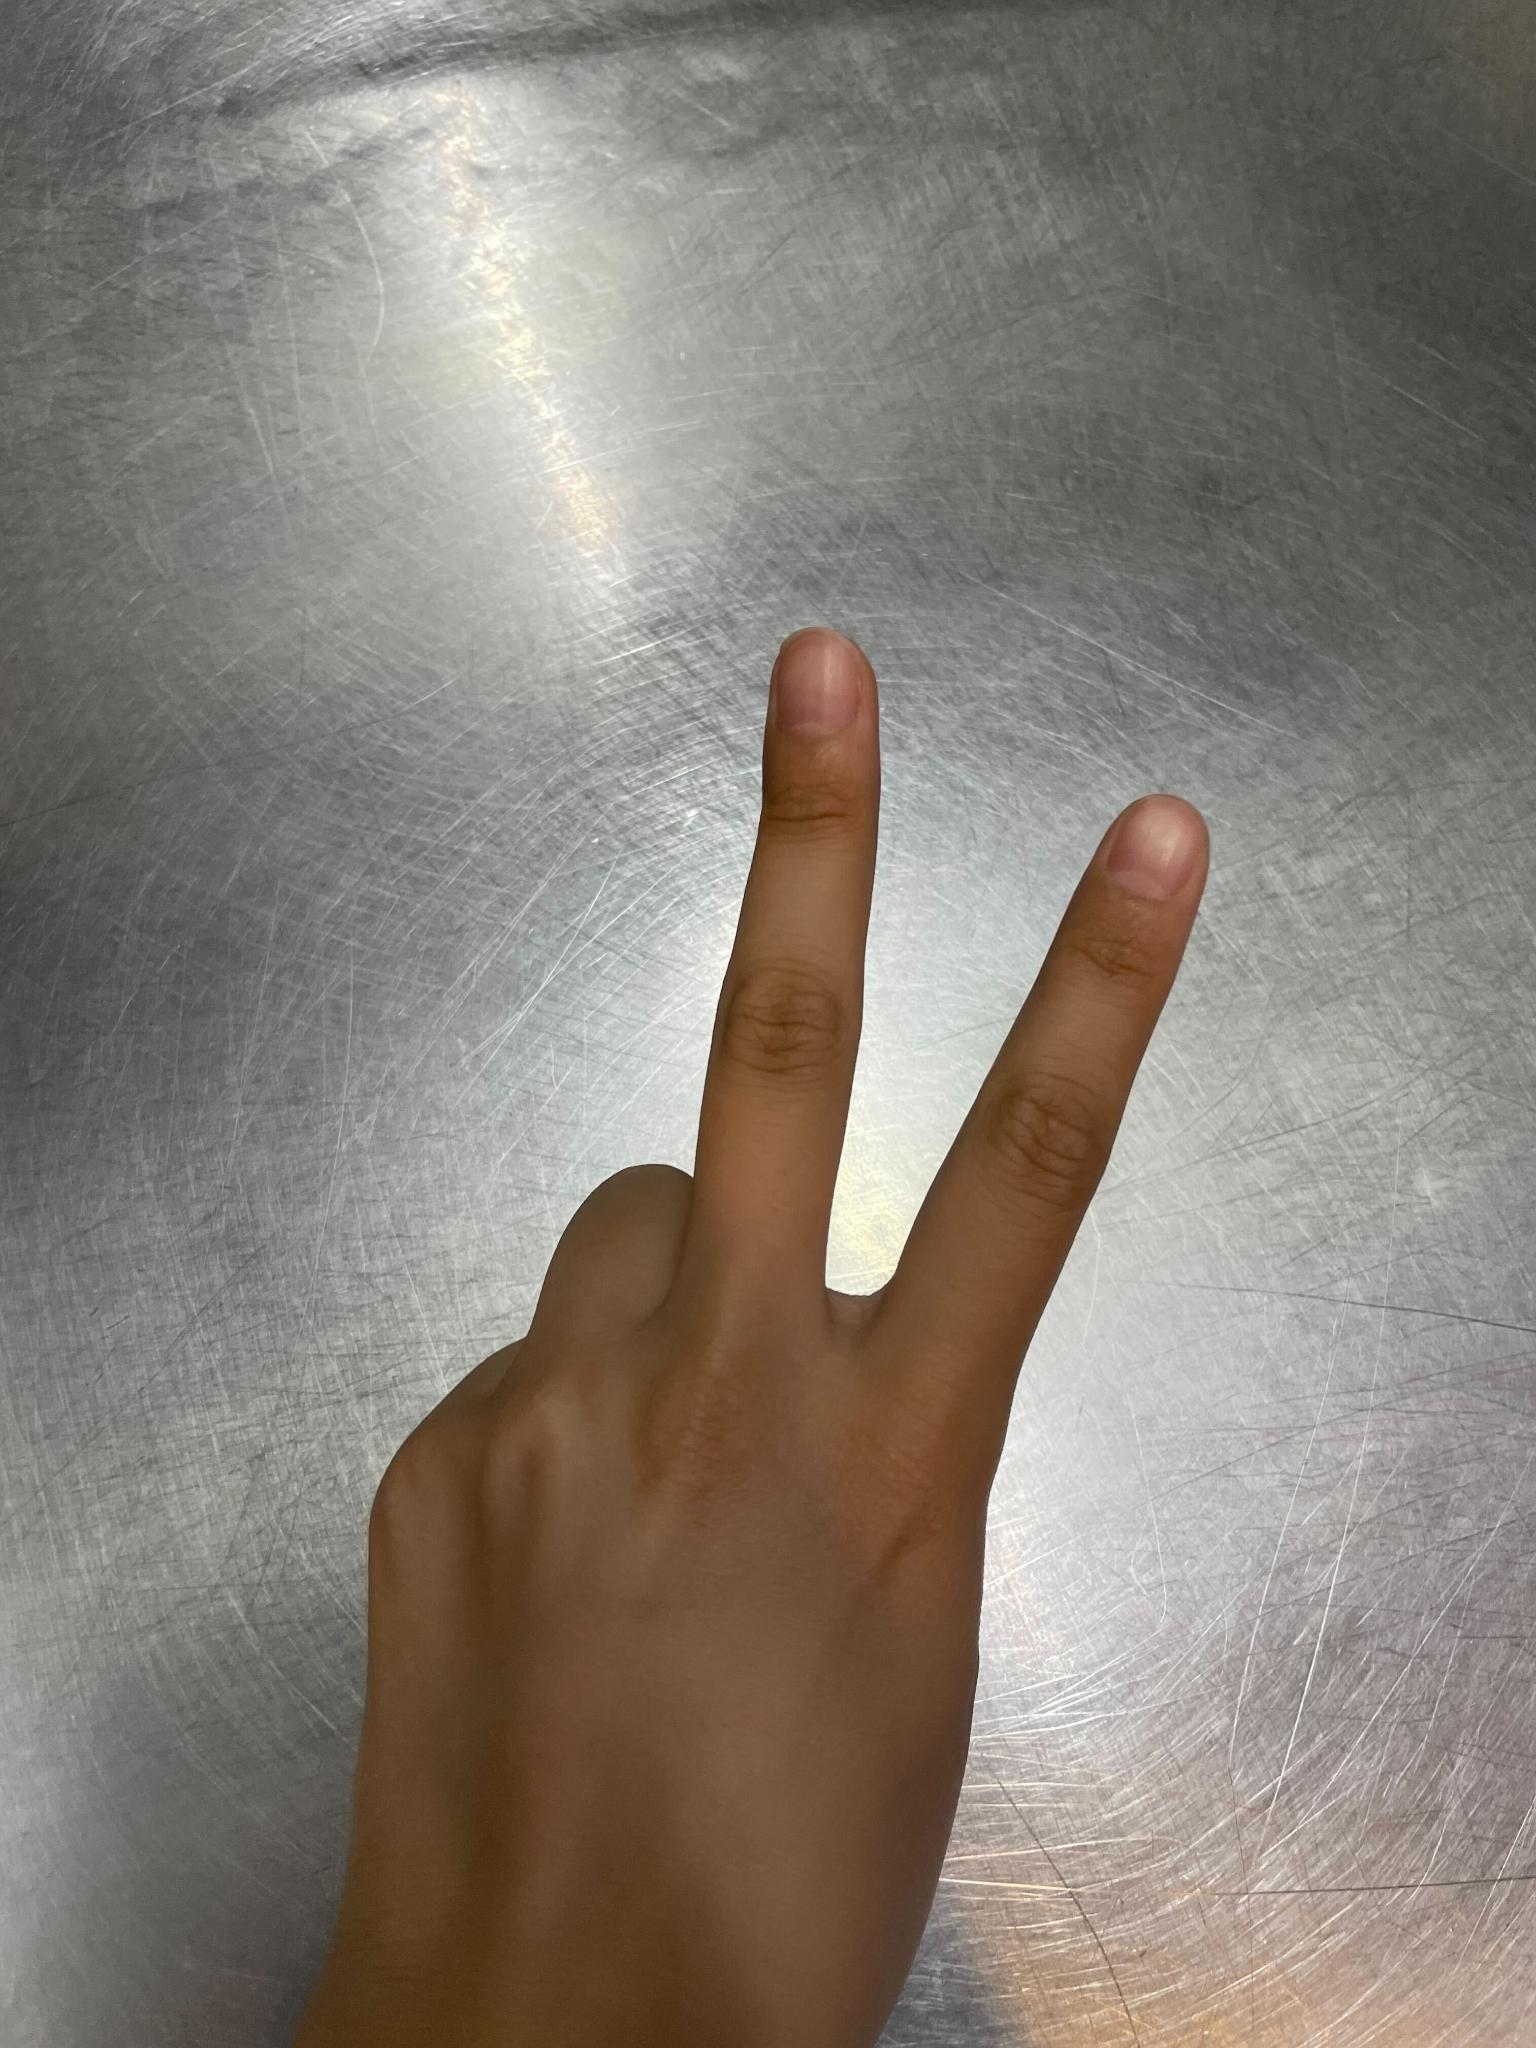v: (300, 592, 1249, 2048)
